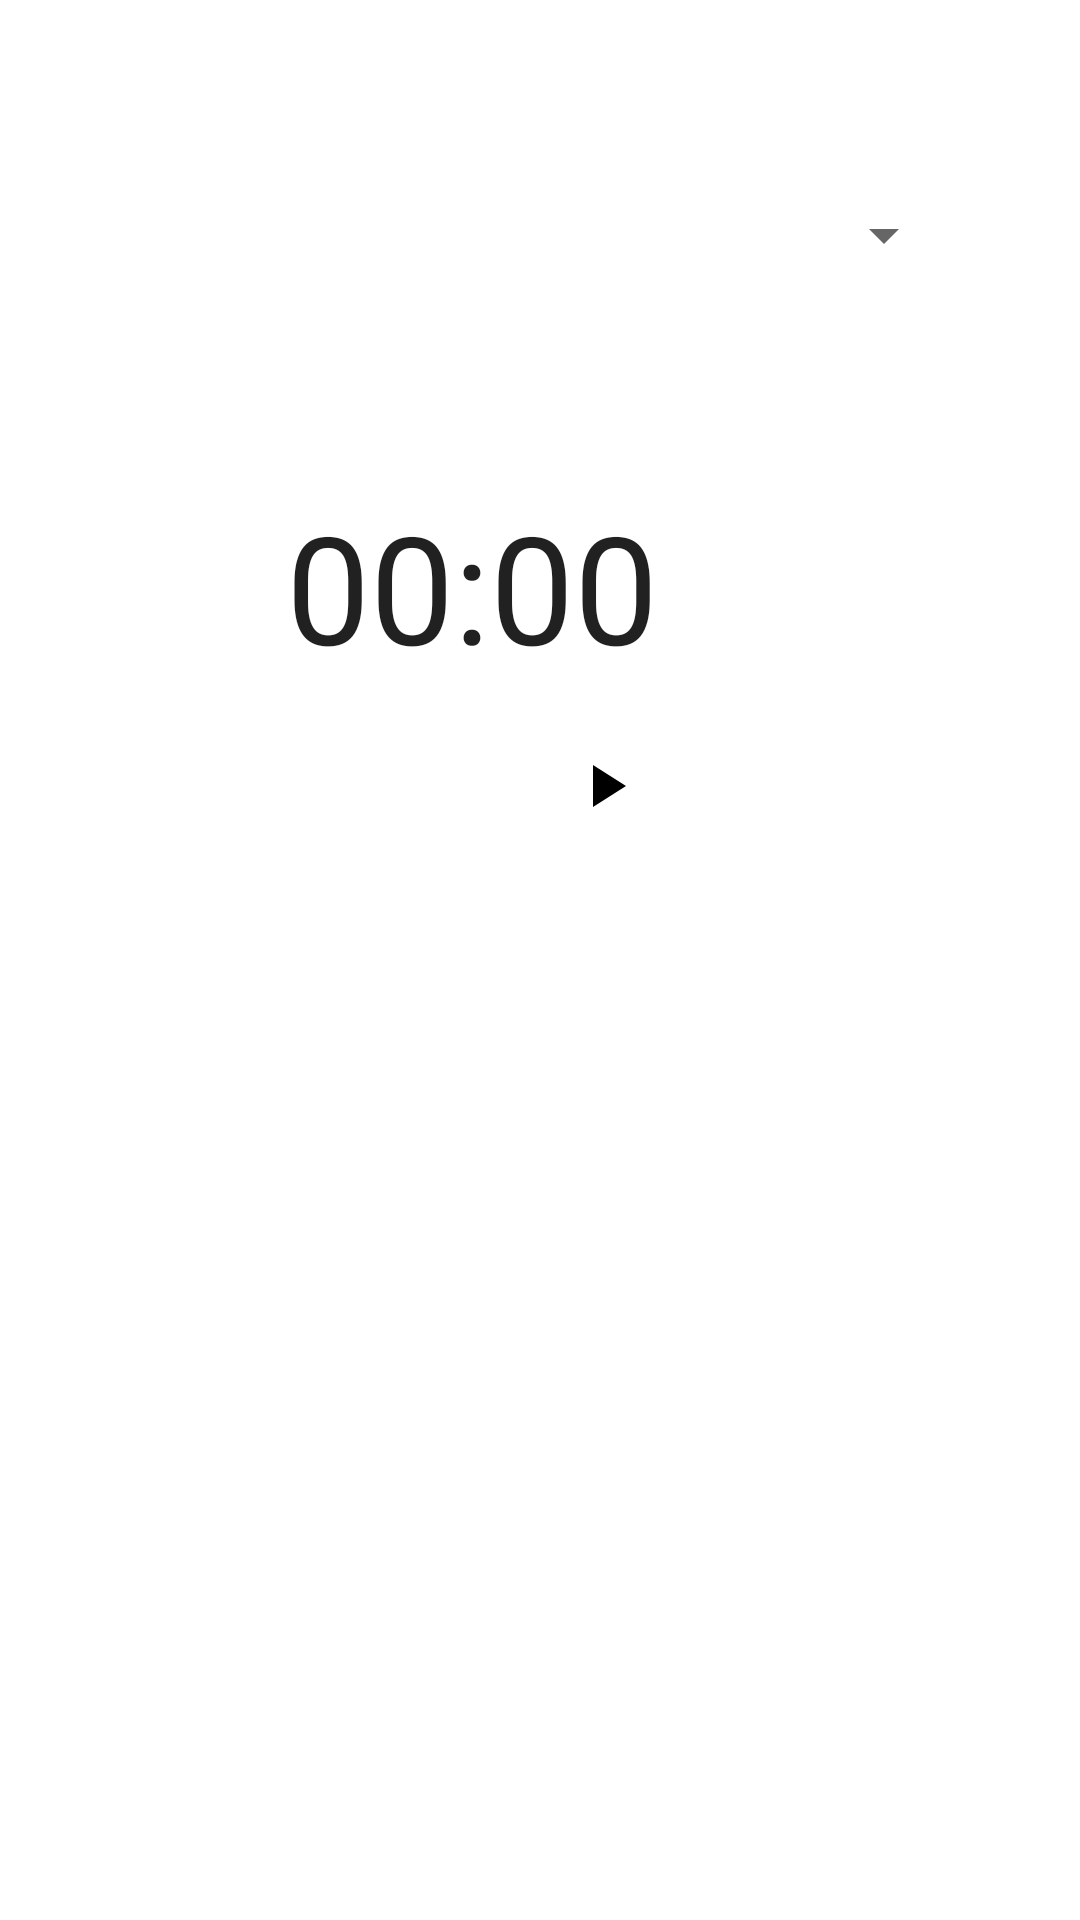

Screen size 1080*1920. Icon name, then its center in pixels as point (x, y):
Play/Pause: point (609, 786)
